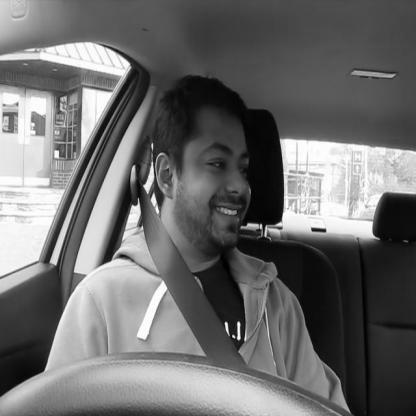seatbelt: (119, 27, 259, 400)
